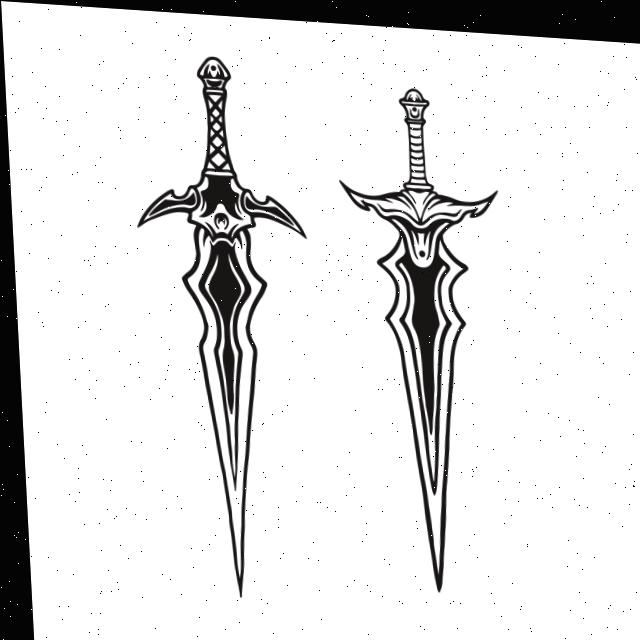knife: (123, 44, 319, 603), (329, 71, 515, 597)
